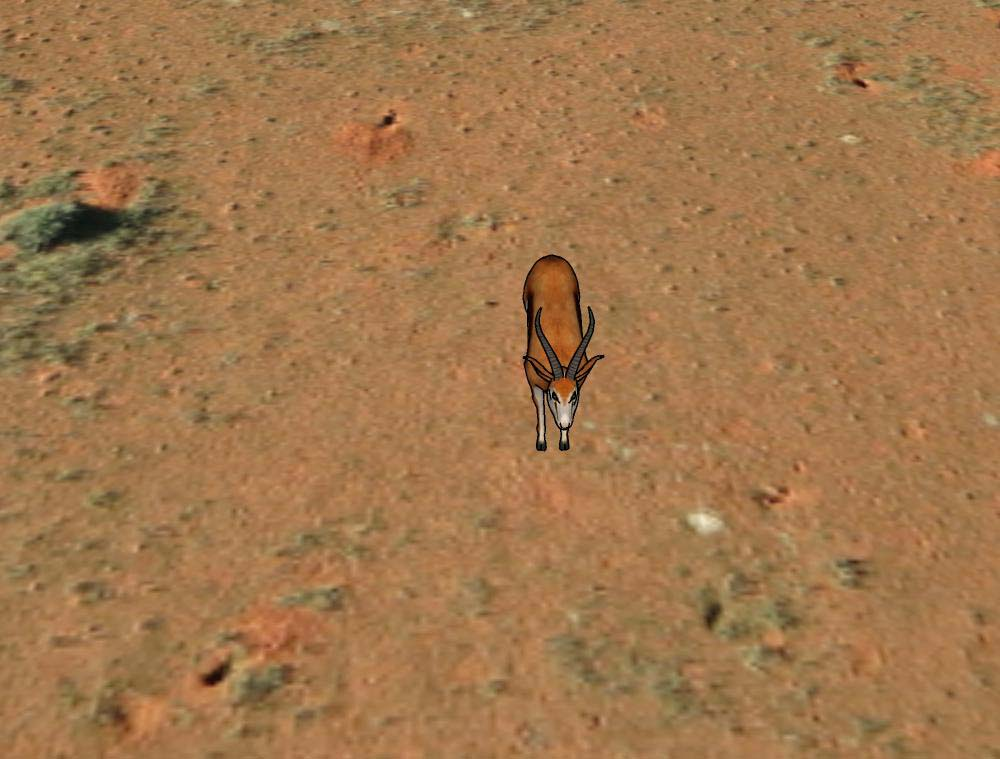springbok: (518, 253, 604, 456)
